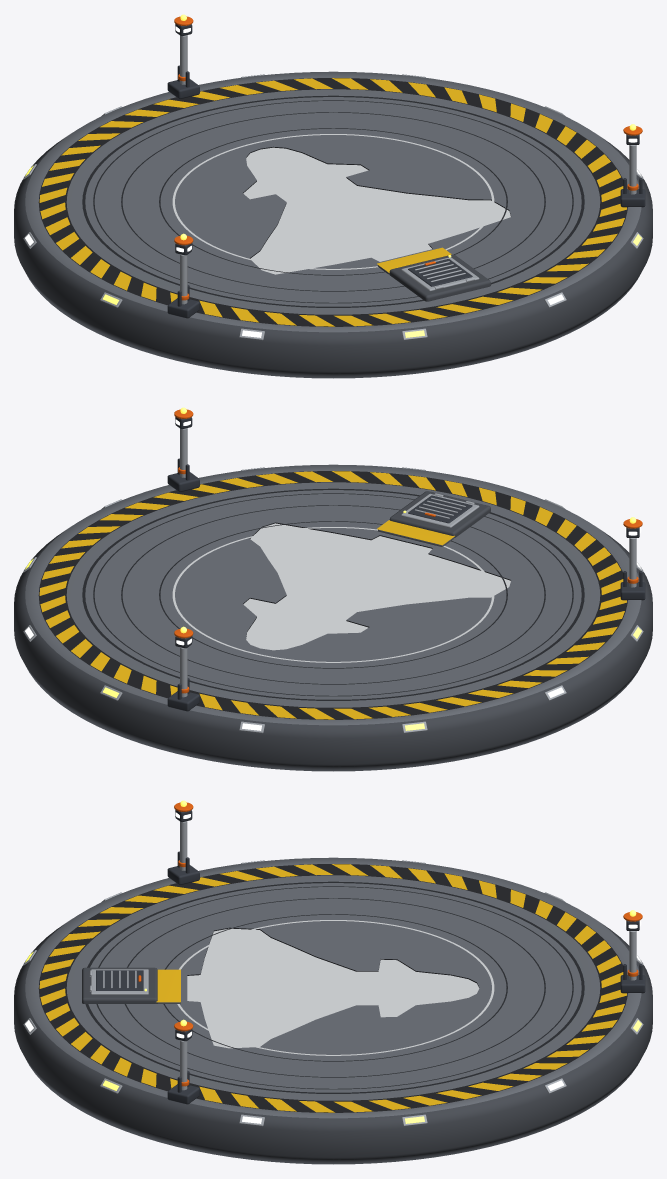
Rendered from landing_pad.glb.
The picture shows the model from 3 angles, top to bottom: view 1: azimuth 30°, elevation 25°; view 2: azimuth 150°, elevation 25°; view 3: azimuth 270°, elevation 25°; orthographic projection.
Parts seen in each view (by area): view 1: Body; view 2: Body; view 3: Body.
Part boxes in pixels (x1=…): Body: x1=14, y1=14, x2=652, y2=378; Body: x1=14, y1=407, x2=652, y2=771; Body: x1=14, y1=800, x2=652, y2=1164.
Size of the model in its own units: 16 by 3.35 by 16.
